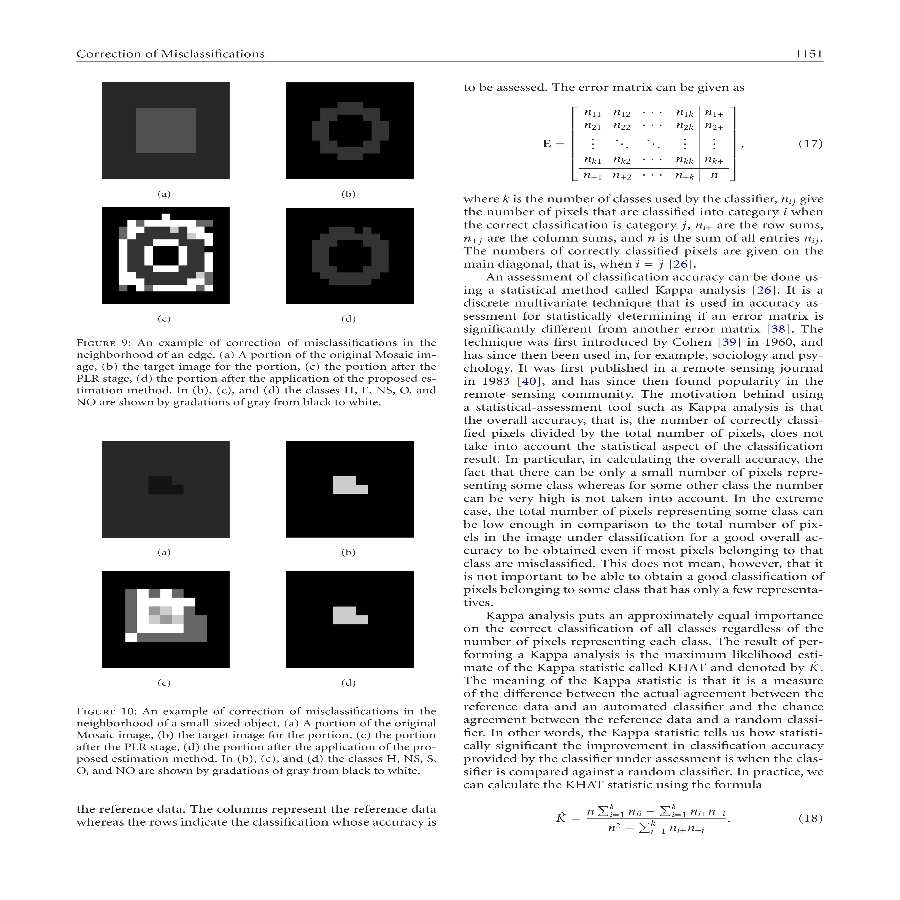eq: (539, 100, 739, 185), (547, 802, 726, 838)
